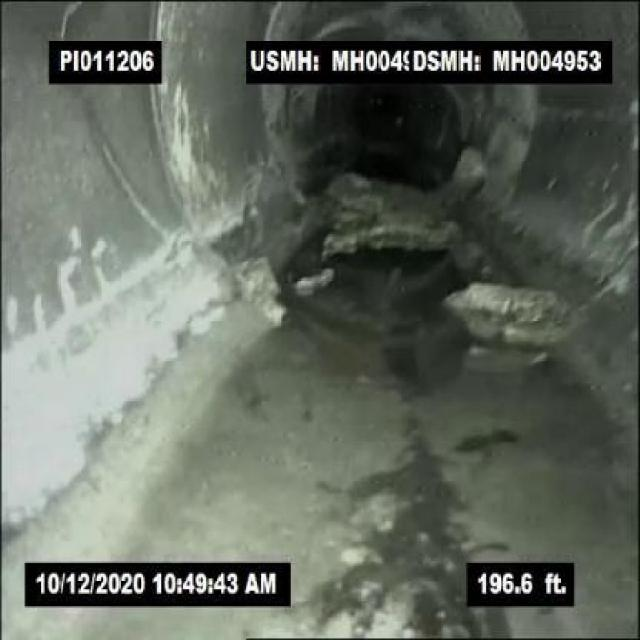Crack: (89, 122, 157, 238), (62, 1, 84, 37)
Debris: (314, 144, 481, 256), (445, 278, 566, 329)
